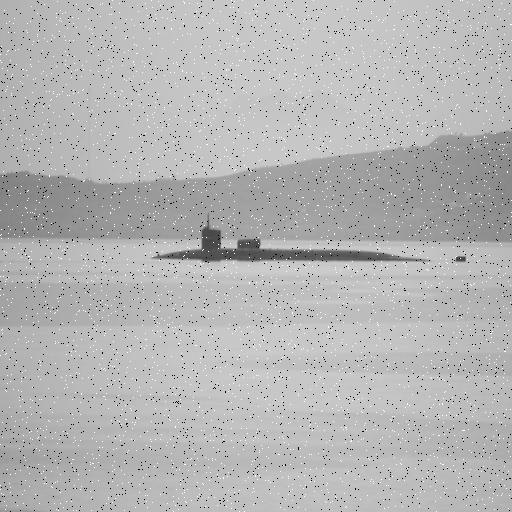submarine: (137, 207, 476, 266)
